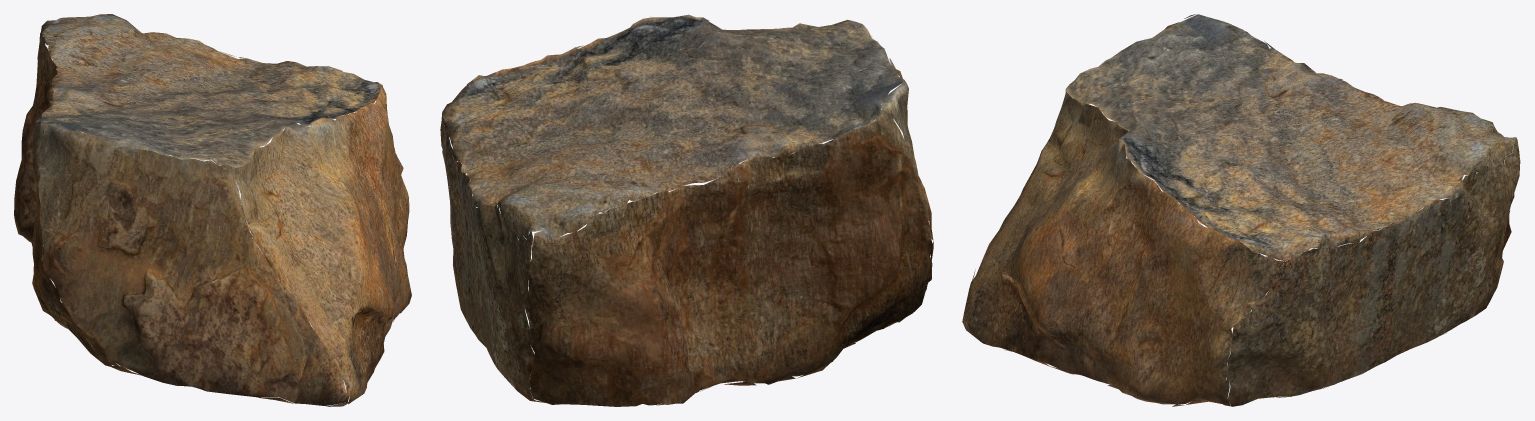
The model's file is rock_b.glb.
The picture shows the model from 3 angles, left to right: view 1: azimuth 30°, elevation 25°; view 2: azimuth 150°, elevation 25°; view 3: azimuth 270°, elevation 25°; orthographic projection. The views are drawn at different scales.
Parts seen in each view (by area): view 1: boulder_03_LOD0; view 2: boulder_03_LOD0; view 3: boulder_03_LOD0.
Part boxes in pixels (x1,y1,x2,y2): boulder_03_LOD0: [14, 14, 411, 406]; boulder_03_LOD0: [440, 14, 933, 406]; boulder_03_LOD0: [962, 14, 1520, 406].
Size of the model in its own units: 2.4 by 1.48 by 3.07.
1 material, 1 textured.
